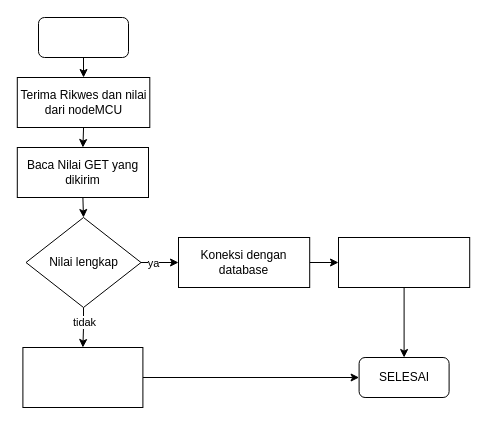
The diagram is 488 pixels wide and 425 high, and some of its shapes have lost their labels. The shapes that lost their labels are listed below. From the top down, each one's centre as x and y in pixels, then its label:
At pixel 83 37: "MULAI".
At pixel 404 262: "Simpan de database".
At pixel 82 377: "Alihkan ke 404.html".
